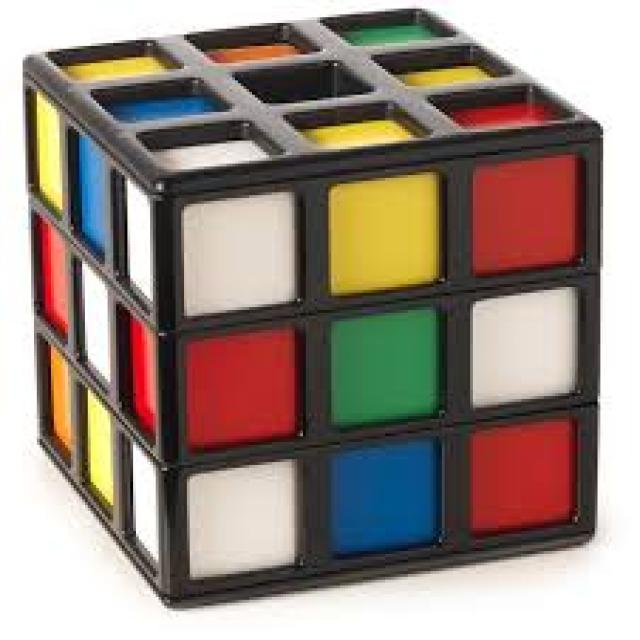Cube-3x3: (18, 45, 606, 550)
